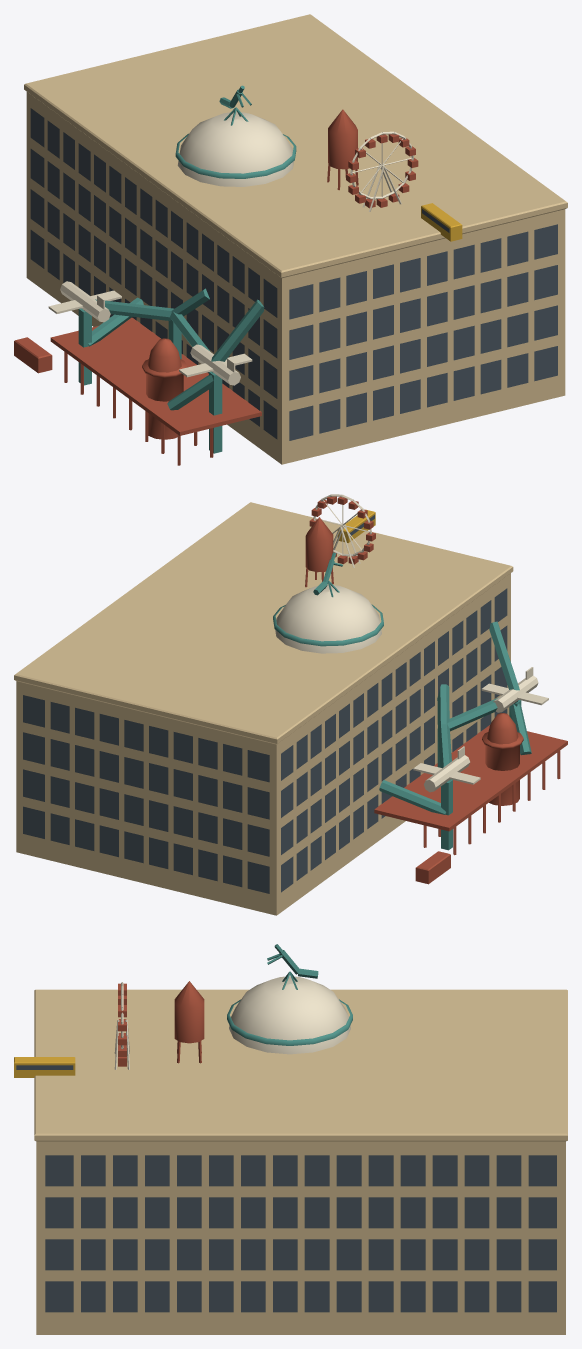
Rendered from stl-city-museum.glb.
3 views of the same model, one above another, from view 1: azimuth 30°, elevation 25°; view 2: azimuth 150°, elevation 25°; view 3: azimuth 270°, elevation 25° (orthographic). The views are drawn at different scales.
Parts seen in each view (by area): view 1: City Museum; view 2: City Museum; view 3: City Museum.
Part boxes in pixels (x1,y1,x2,y2): City Museum: (14, 14, 567, 465); City Museum: (14, 494, 567, 915); City Museum: (14, 944, 567, 1334).
Size of the model in its own units: 81.75 by 56.41 by 99.15.
